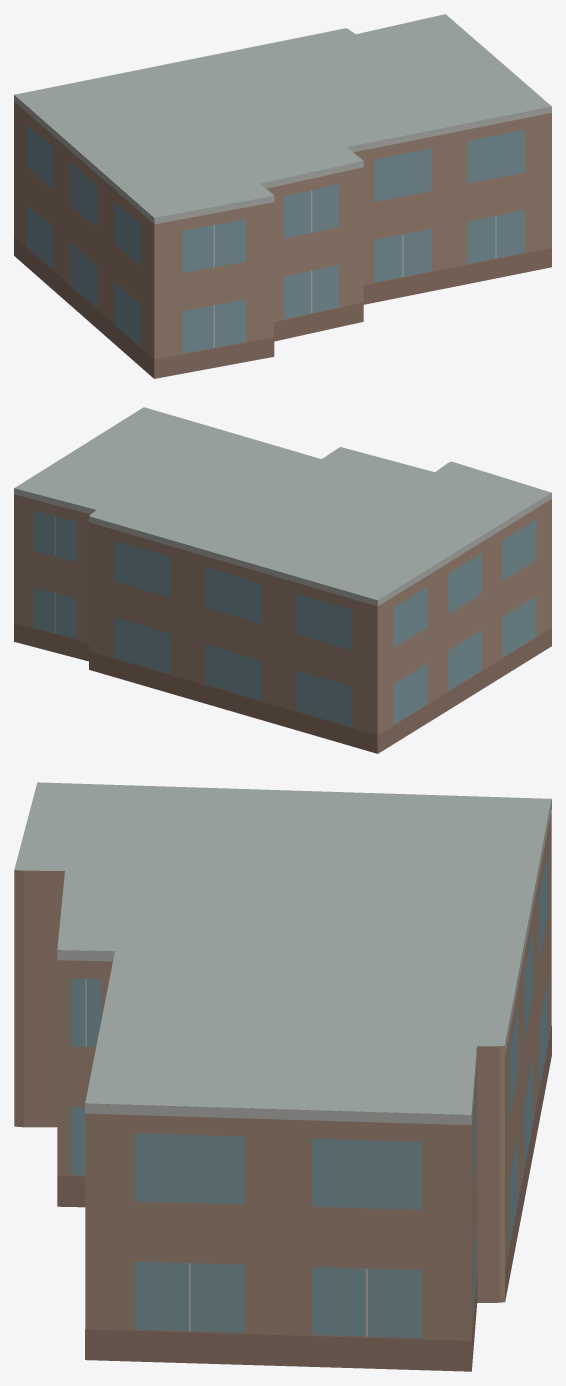
The model's file is survey-upis-32768019.glb.
The picture shows the model from 3 angles, top to bottom: view 1: azimuth 30°, elevation 25°; view 2: azimuth 150°, elevation 25°; view 3: azimuth 270°, elevation 25°; orthographic projection. The views are drawn at different scales.
Visible parts, largest first — view 1: survey-upis-32768019.tmp; view 2: survey-upis-32768019.tmp; view 3: survey-upis-32768019.tmp.
Boxes of the visible parts, x1,y1,x2,y2 form: survey-upis-32768019.tmp: (14,14,551,378); survey-upis-32768019.tmp: (14,407,551,753); survey-upis-32768019.tmp: (14,782,551,1371).
Size of the model in its own units: 16.97 by 6.1 by 11.59.
